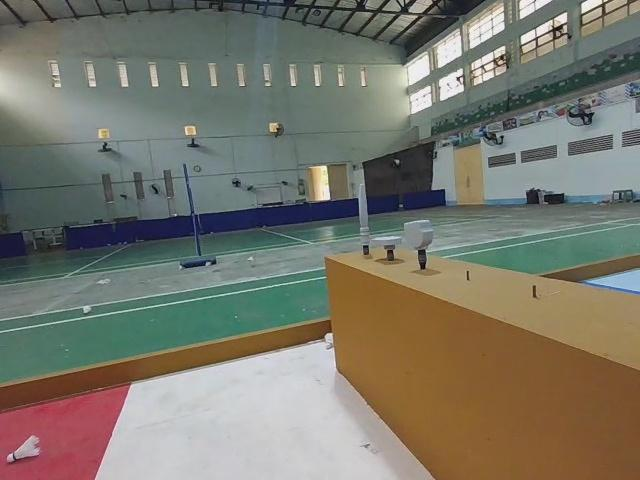Fist: (404, 220, 436, 273)
Hand: (378, 238, 399, 262)
Sph: (354, 188, 373, 256)
